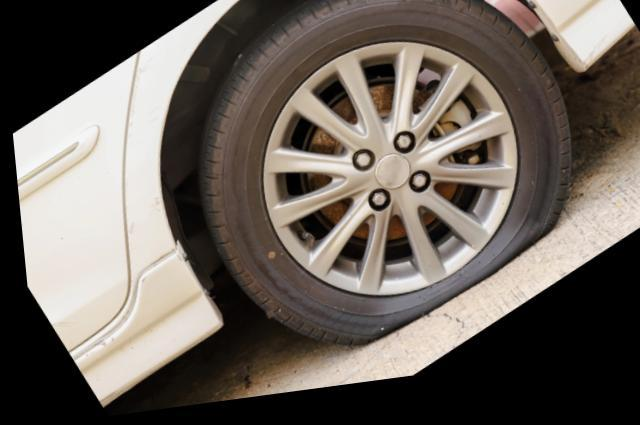tire flat: (192, 0, 566, 352)
